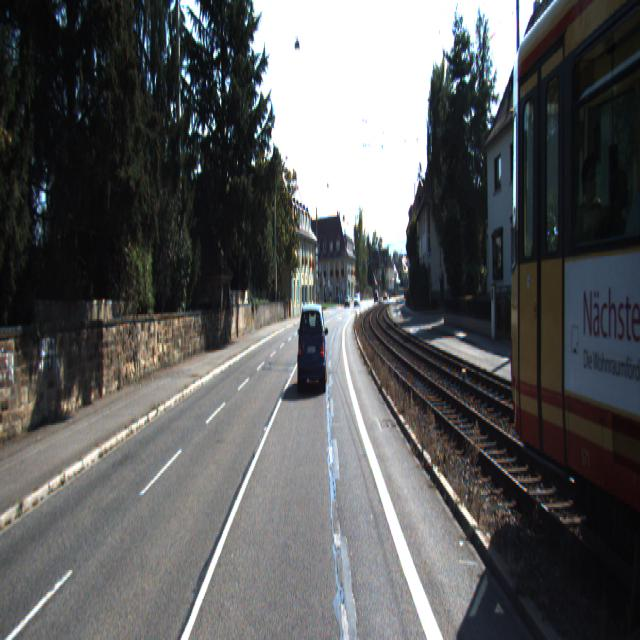Car: (504, 0, 639, 639), (298, 302, 328, 396)
